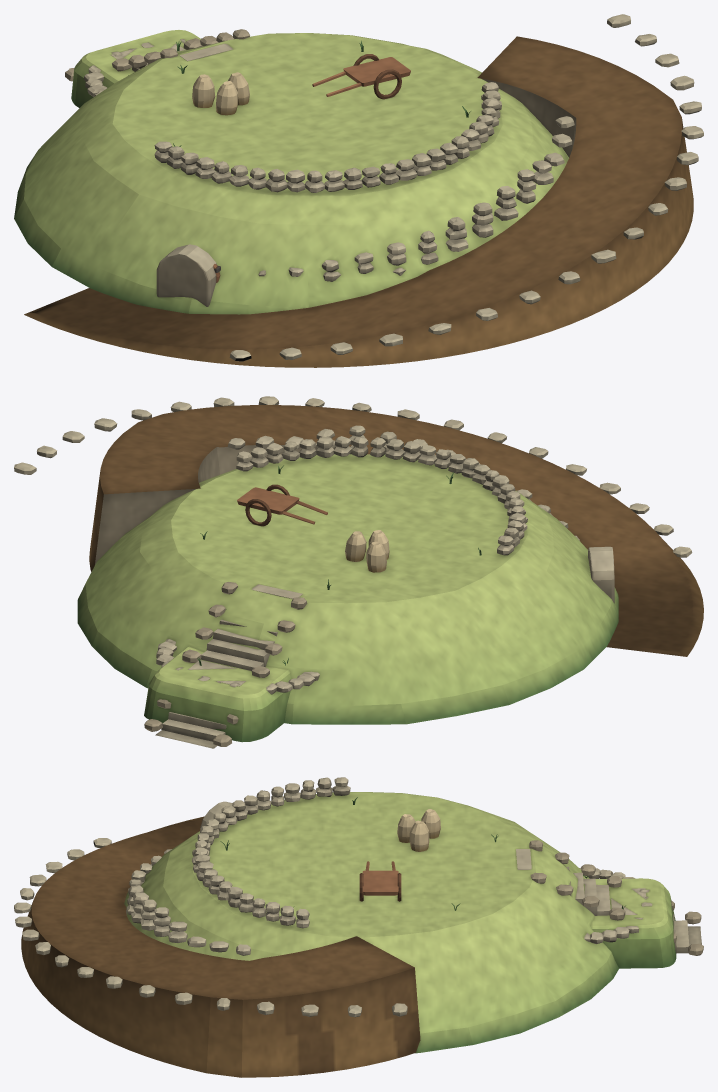
File: mill_mound.glb
3 renders of one model, top to bottom at view 1: azimuth 30°, elevation 25°; view 2: azimuth 150°, elevation 25°; view 3: azimuth 270°, elevation 25°, orthographic. The views are drawn at different scales.
Parts seen in each view (by area): view 1: MillMound; view 2: MillMound; view 3: MillMound.
Part boxes in pixels (<box>): MillMound: <box>14,14,703,367</box>; MillMound: <box>14,396,703,748</box>; MillMound: <box>14,777,703,1077</box>.
Size of the model in its own units: 16.74 by 2.84 by 16.8.
Materials: 2 (1 with a texture image).
